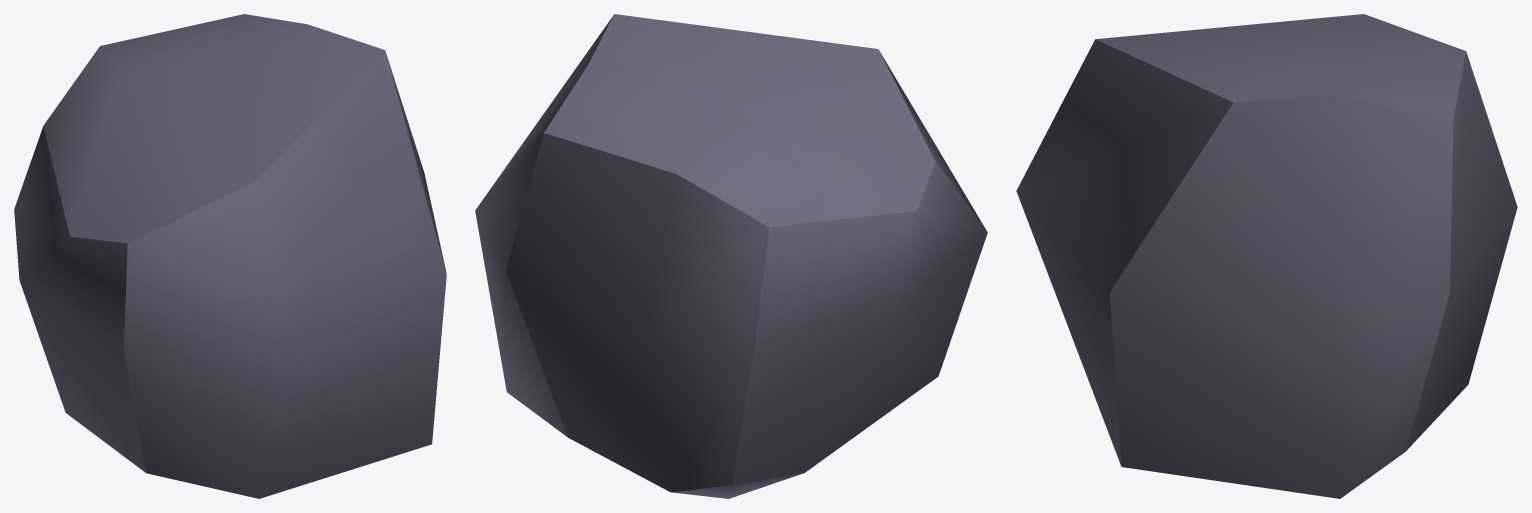
The model's file is rock_4.fbx.
The picture shows the model from 3 angles, left to right: view 1: azimuth 30°, elevation 25°; view 2: azimuth 150°, elevation 25°; view 3: azimuth 270°, elevation 25°; orthographic projection. The views are drawn at different scales.
Visible parts, largest first — view 1: rock_4; view 2: rock_4; view 3: rock_4.
Boxes of the visible parts, <box> form: rock_4: <box>14,14,446,498</box>; rock_4: <box>475,14,987,498</box>; rock_4: <box>1016,14,1517,498</box>.
Bounding box in the file's own units: 0.8274 × 0.7568 × 0.8339.
